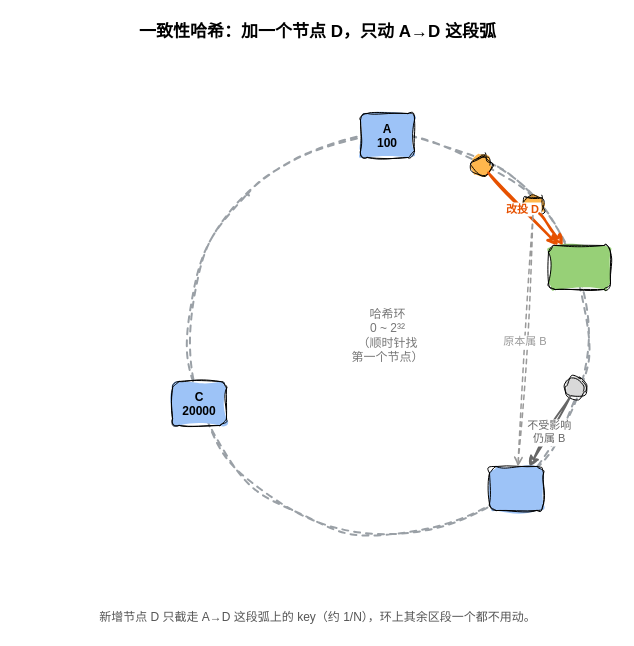
Image size: 634x646. Some labels were removed from this diagram. The shapes that lost their labels are listed below. From the top down, each one's centre as x and y in pixels, then its label:
the point at 579,267: D（新） 5000
the point at 516,488: B 8000
